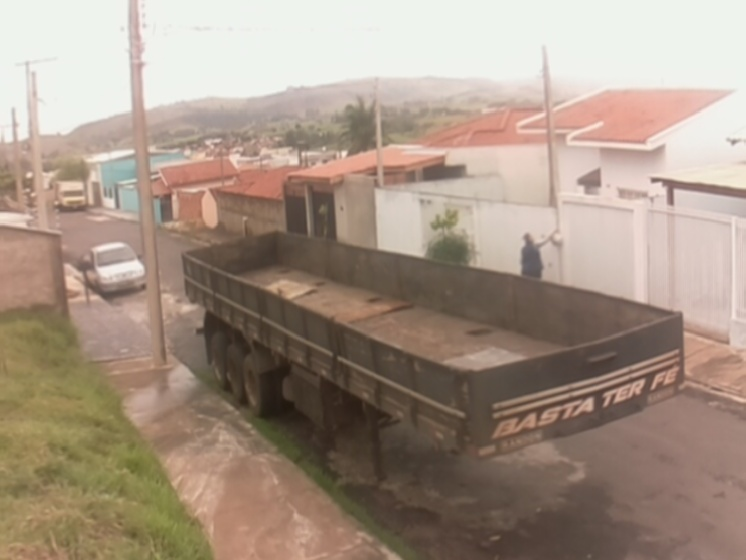person: (515, 226, 564, 288)
